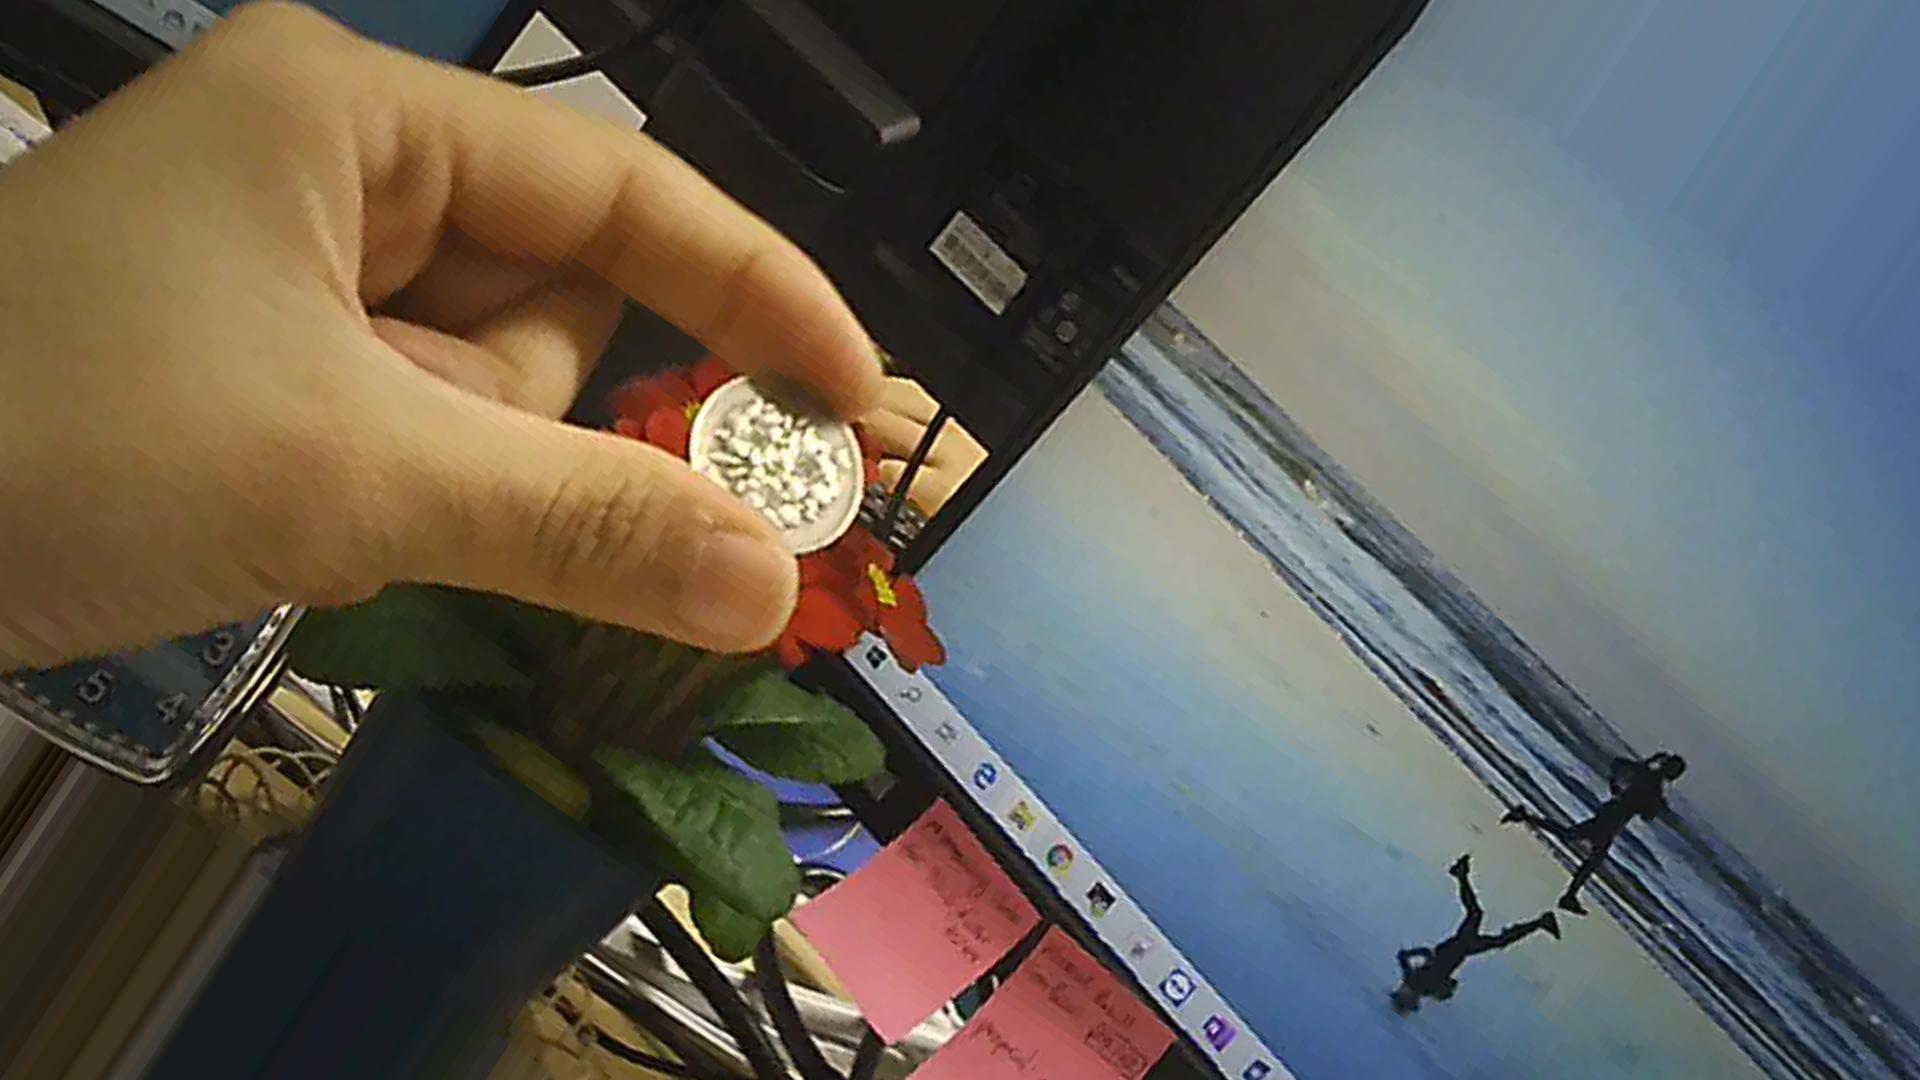100 Yen: (676, 353, 874, 559)
